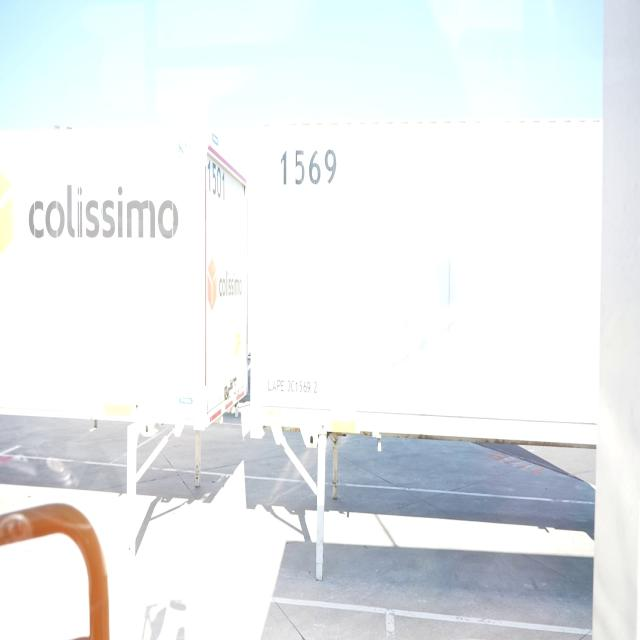Code: (277, 136, 341, 197)
